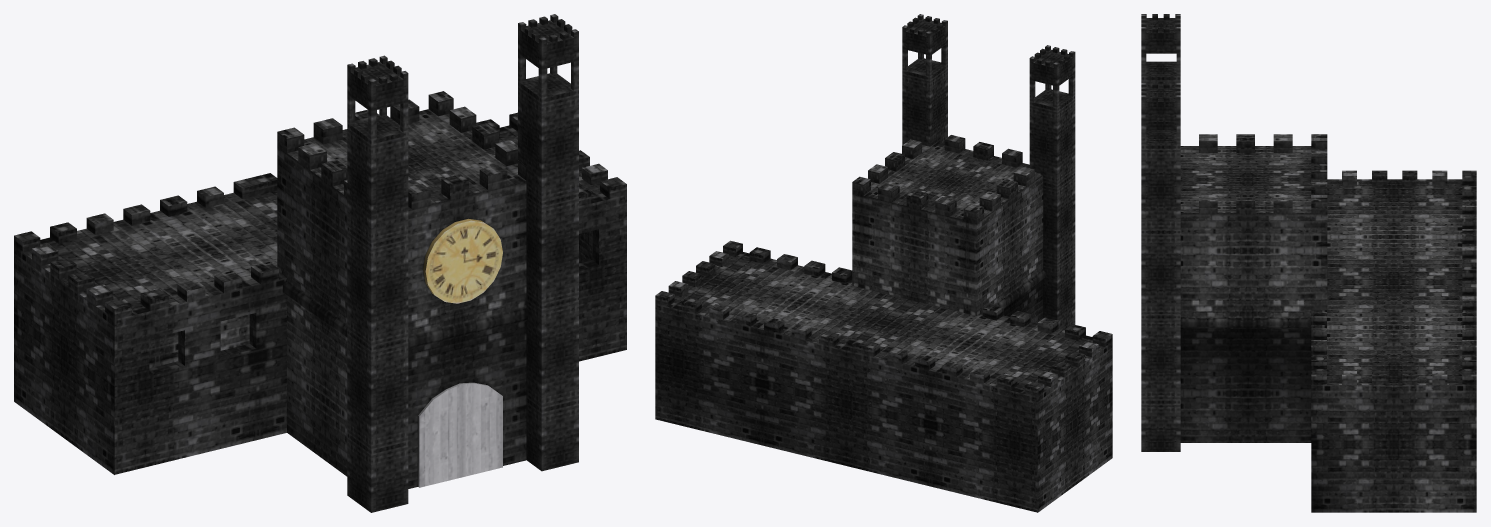
3 views of the same model, side by side, from view 1: azimuth 30°, elevation 25°; view 2: azimuth 150°, elevation 25°; view 3: azimuth 270°, elevation 25° (orthographic). The views are drawn at different scales.
Visible parts, largest first — view 1: Object001_Object001_mtl_0; view 2: Object001_Object001_mtl_0; view 3: Object001_Object001_mtl_0.
Boxes of the visible parts, left/top/right/bottom form: Object001_Object001_mtl_0: left=14, top=14, right=626, bottom=512; Object001_Object001_mtl_0: left=655, top=14, right=1112, bottom=512; Object001_Object001_mtl_0: left=1141, top=14, right=1476, bottom=512.
Bounding box in the file's own units: 15.92 × 12.81 × 10.97.
1 material, 1 textured.
